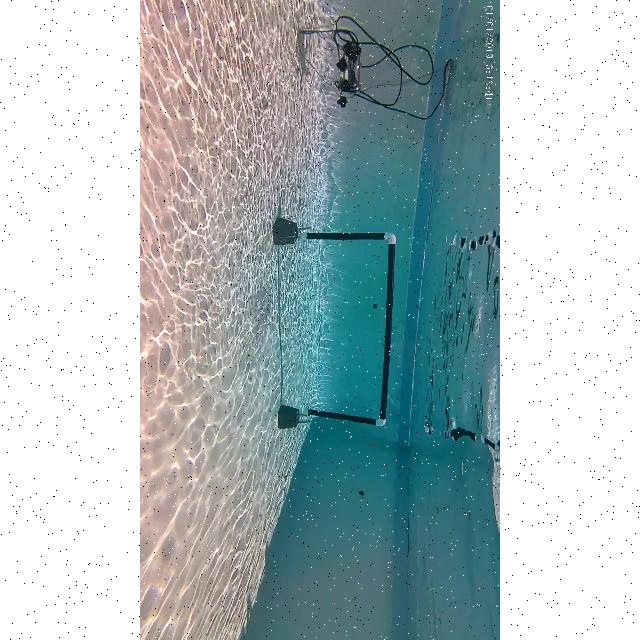prequal gate: (306, 232, 396, 426)
prequal gate leg l: (304, 230, 398, 248)
prequal gate leg r: (305, 408, 391, 432)
